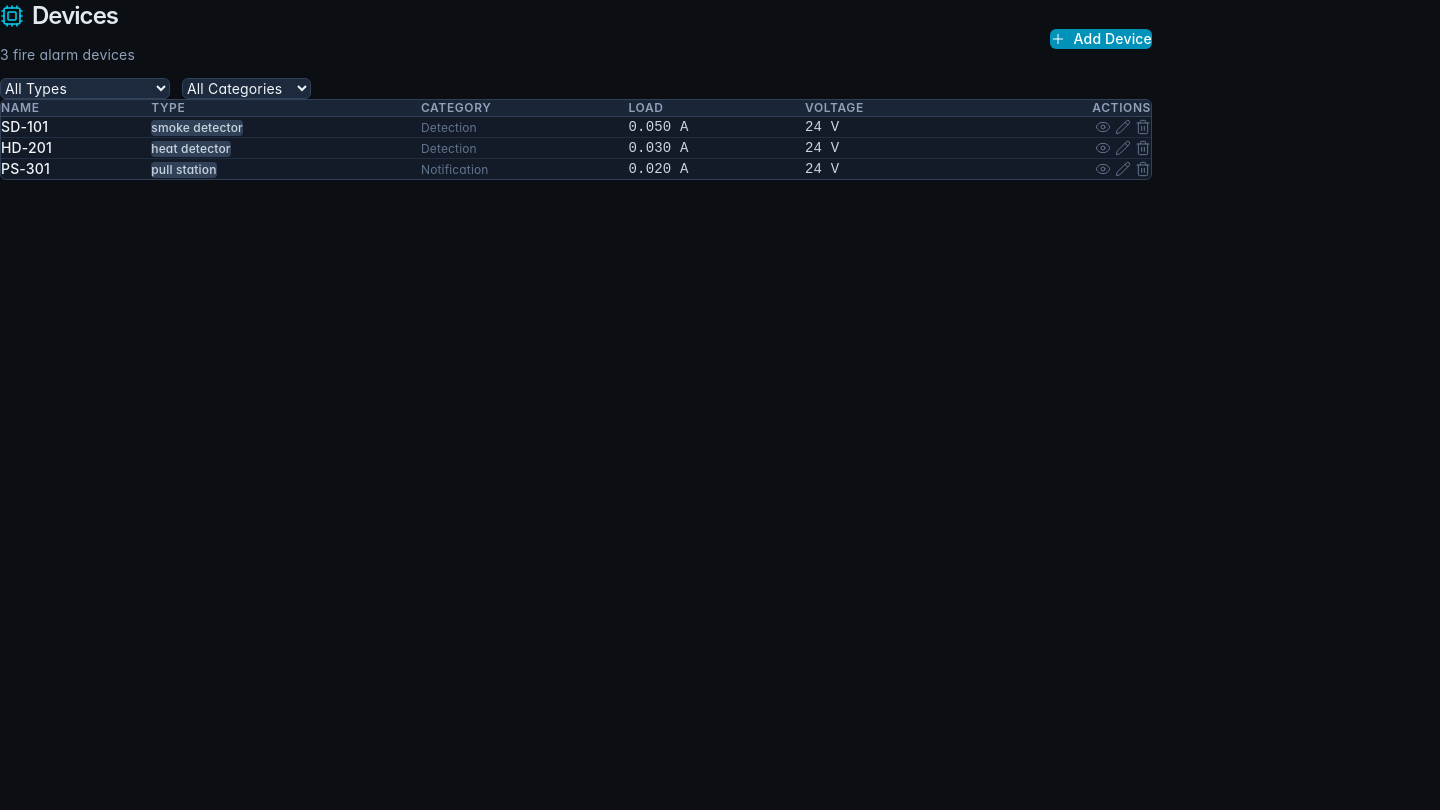
Test case: DevicesPage › shows error message in create modal on failure
The image size is (1440, 810).
Click the button "Add Device" at (1101, 39), box [1050,29,1152,49]
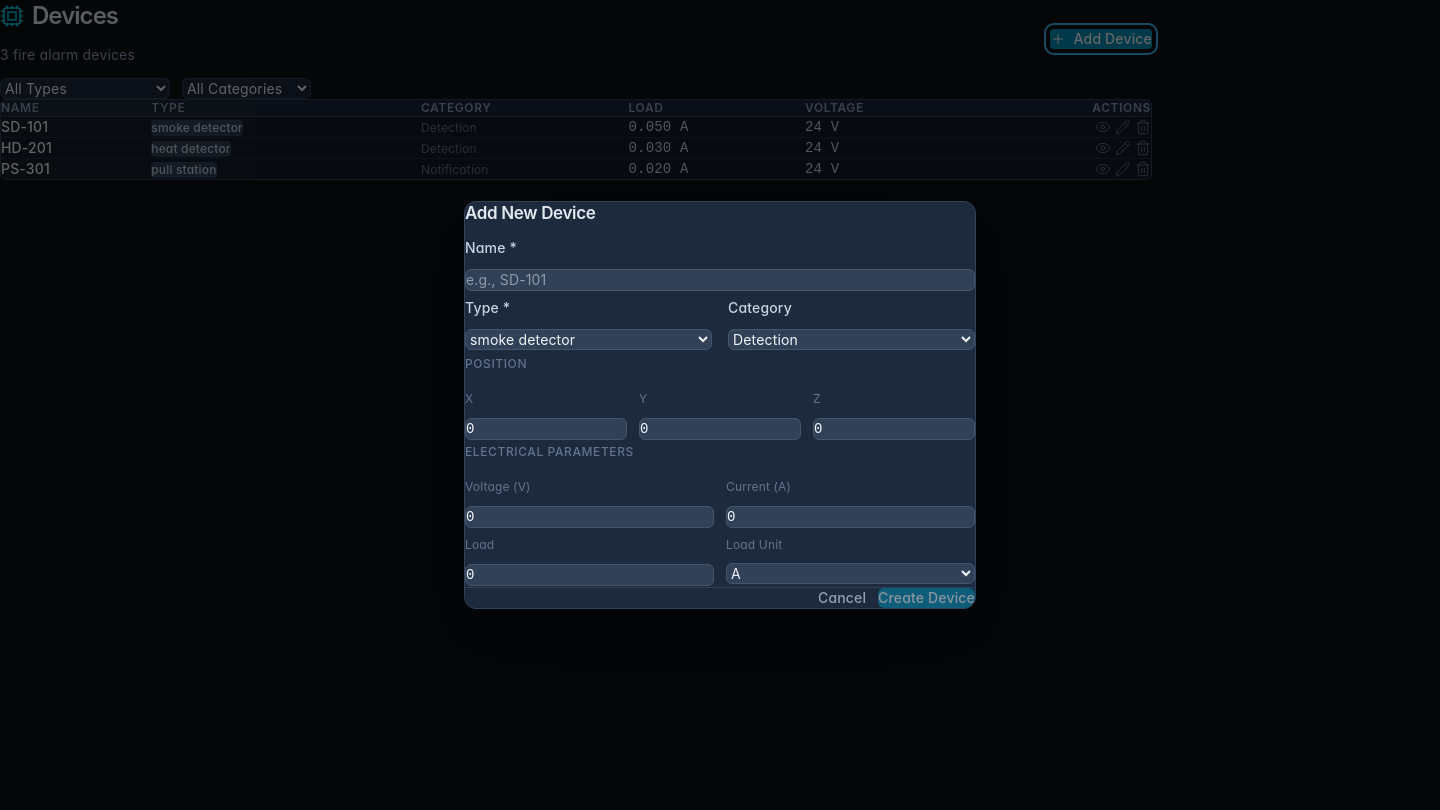
Note: Fill in name so button is enabled
Type "Test-Device" into the field with placeholder "e.g., SD-101" at (720, 280), box [465,269,975,291]
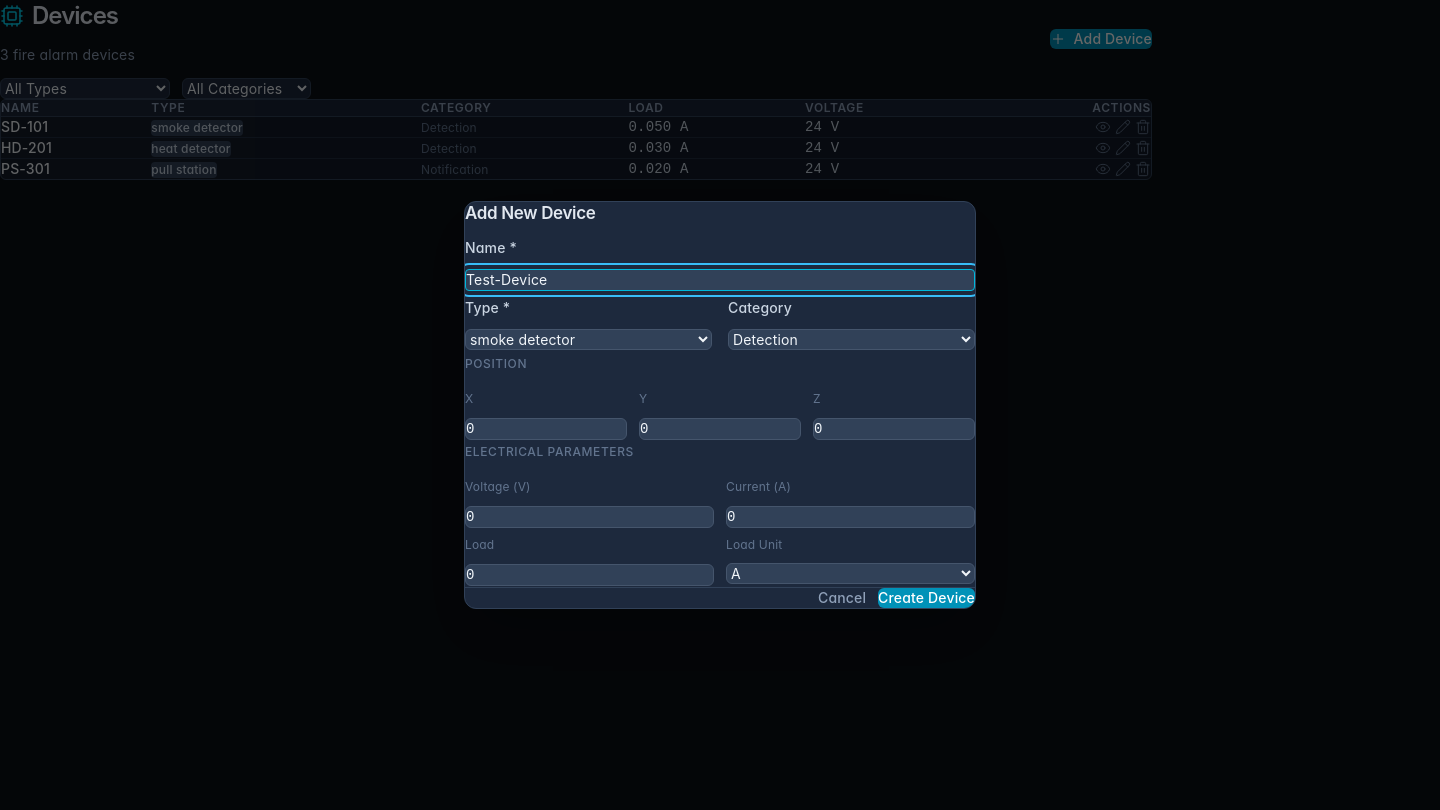
Click the button "Create Device" at (927, 598), box [878,588,975,608]
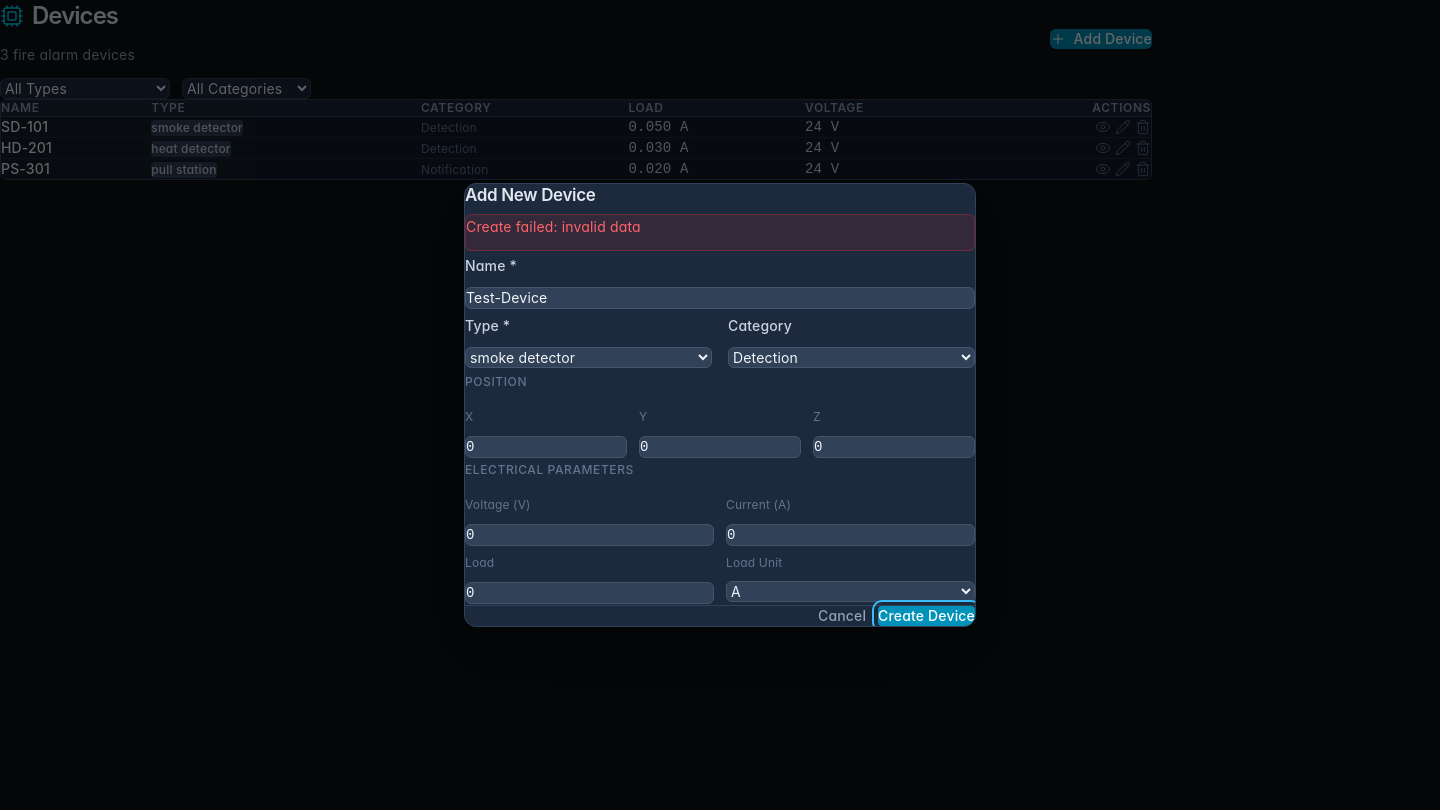
Now the text "Create failed: invalid data" is shown, box [466,218,641,235]
